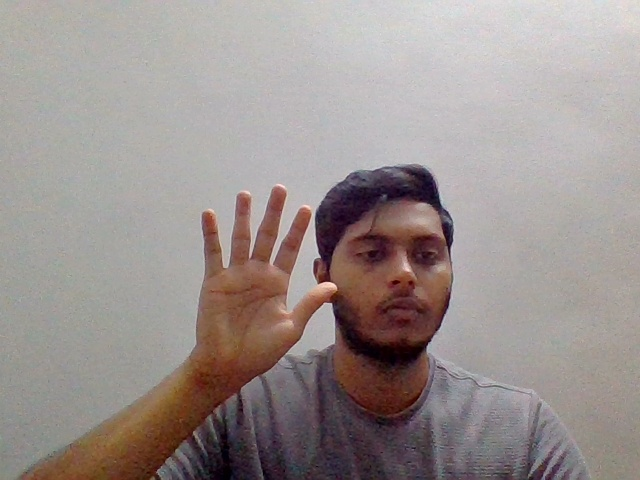Hello: (190, 178, 342, 397)
